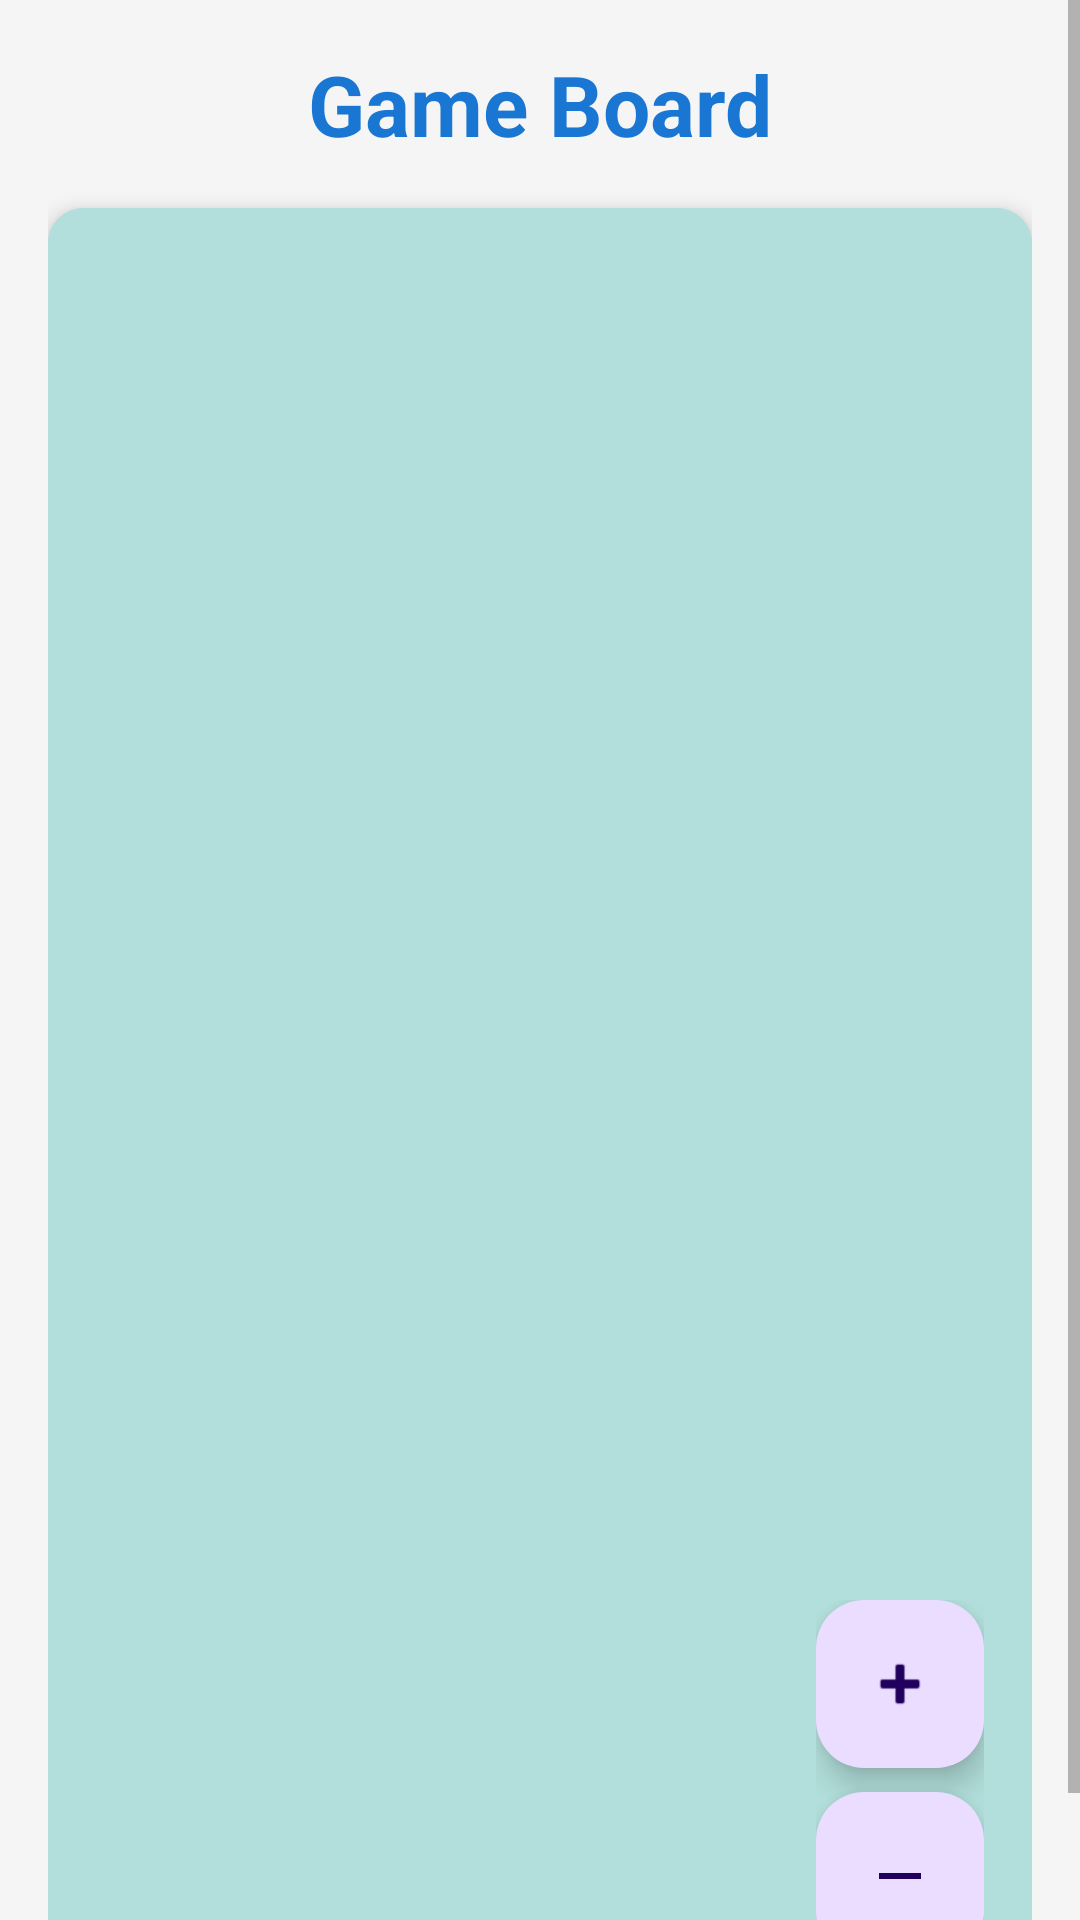

Screen size 1080 x 1920. Icon name, then its box in pixels as bbox(x1, y1, x2, y2):
Zoom In: bbox(816, 1600, 984, 1768)
